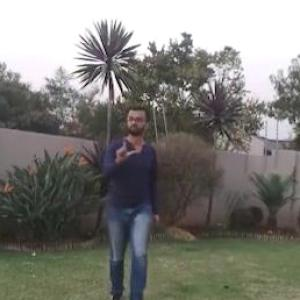land_hand: (110, 132, 138, 168)
